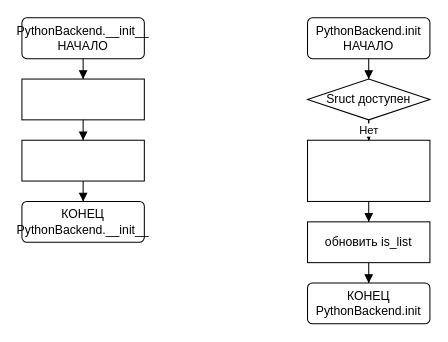
This 448x342 diagram has some shape labels left out. Each missing label, with the box of its shape:
is_list = Sruct is None: (21, 139, 144, 181)
q = None: (21, 78, 144, 120)
q = Sruct() или []: (307, 139, 430, 201)
